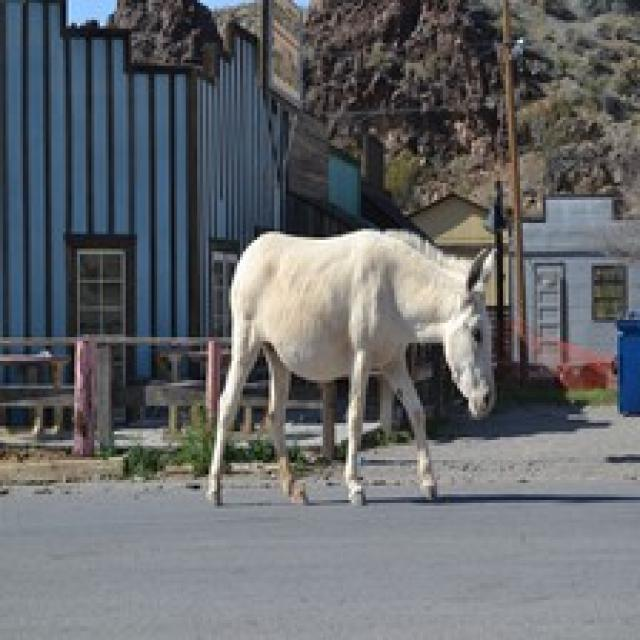Donkey: (202, 225, 498, 506)
